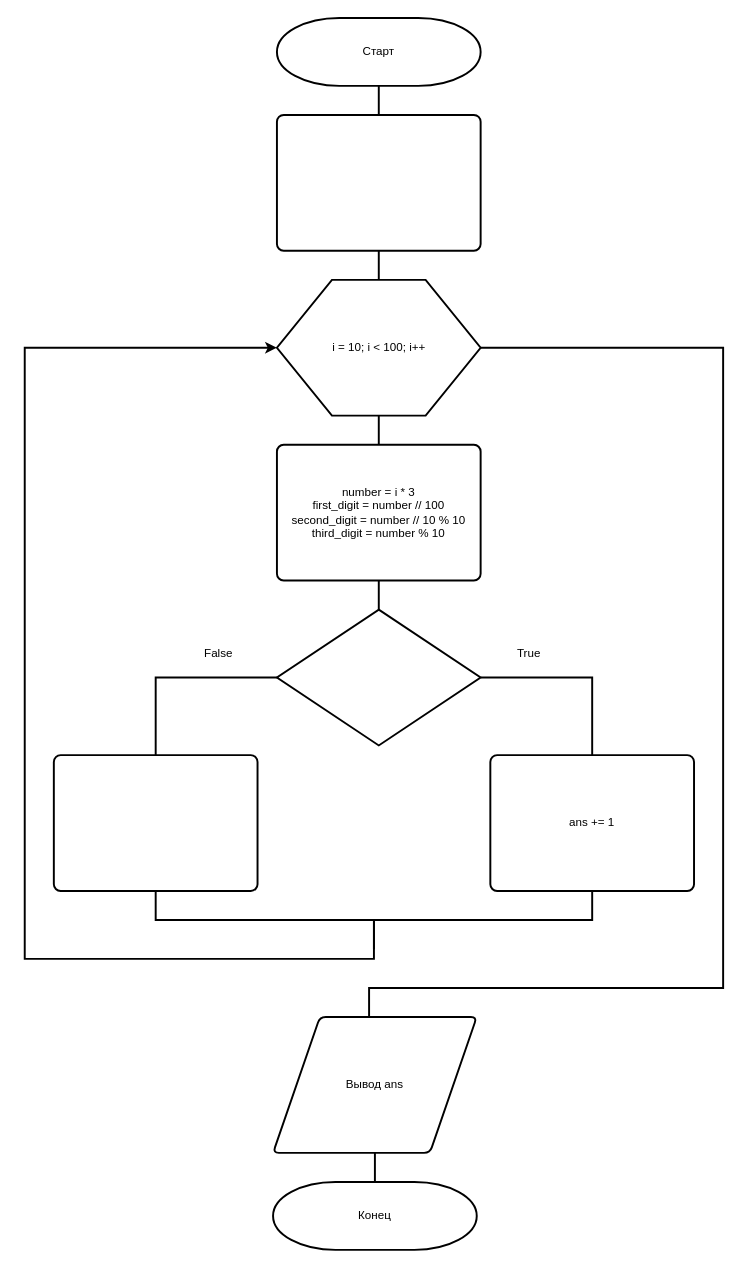
The diagram is 741 pixels wide and 1267 high, and some of its shapes have lost their labels. The box of each missing label's shape, as (x1, y1, x2, y2) in pixels:
(first + second + third) % 5 == 0: (275, 608, 481, 746)
ans = 0: (275, 113, 481, 251)
Nothing: (52, 754, 258, 891)
